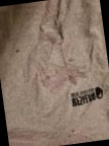wine: (43, 64, 85, 94), (41, 29, 62, 52), (14, 46, 26, 56), (67, 129, 76, 137)
